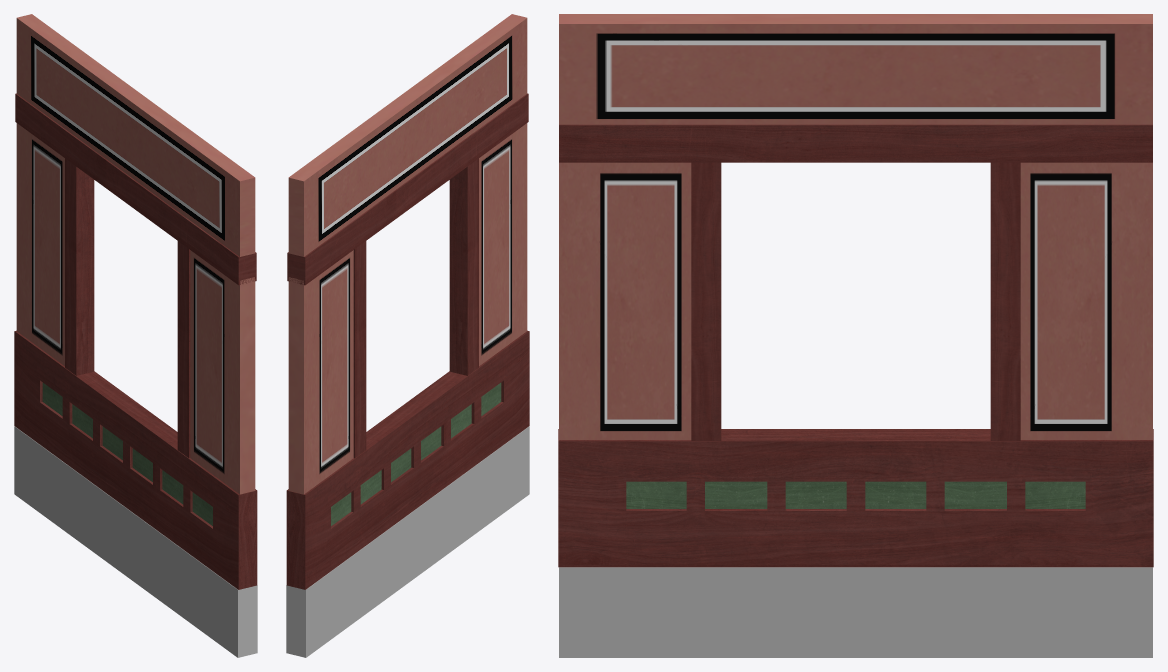
Rendered from SM_Wall04A.fbx.
3 renders of one model, left to right at view 1: azimuth 30°, elevation 25°; view 2: azimuth 150°, elevation 25°; view 3: azimuth 270°, elevation 25°, orthographic. The views are drawn at different scales.
Visible parts, largest first — view 1: SM_Wall04A; view 2: SM_Wall04A; view 3: SM_Wall04A.
Boxes of the visible parts, x1,y1,x2,y2 form: SM_Wall04A: (14, 14, 257, 657); SM_Wall04A: (286, 14, 529, 657); SM_Wall04A: (558, 14, 1153, 657).
Bounding box in the file's own units: 12.46 × 246 × 288.
